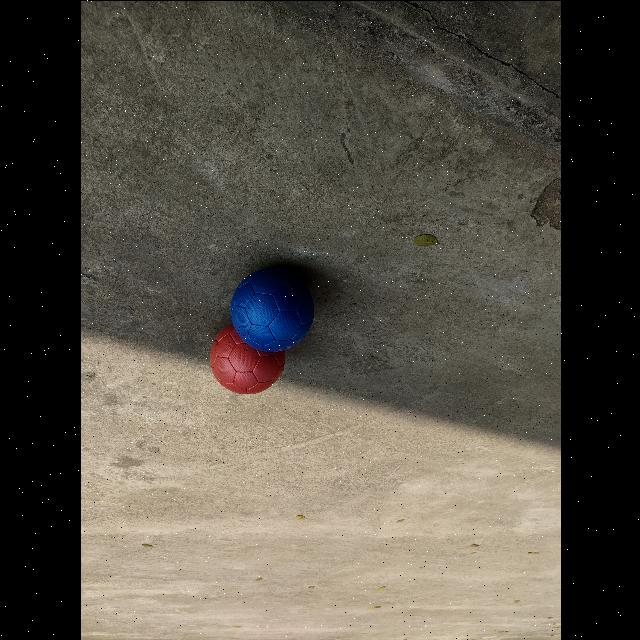B: (230, 267, 314, 351)
R: (209, 324, 285, 393)
